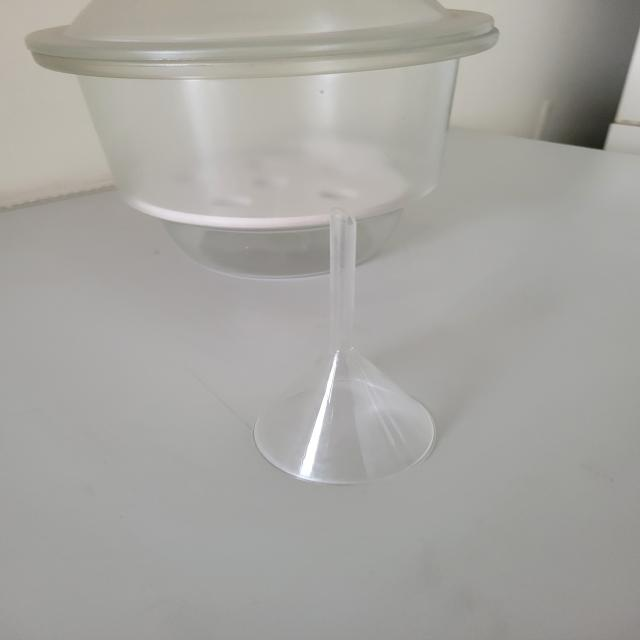Funnel: (223, 155, 475, 500)
